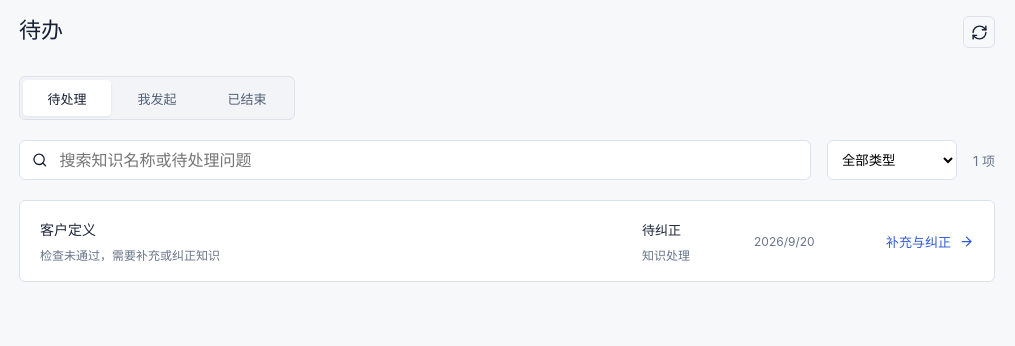
Scenario: knowledge actions in the inbox › finds knowledge even when the collaboration queue is empty and removes it after release
The width and height of the screenshot is (1015, 346).
Step 1. Click the button with aria-label "补充与纠正：客户定义" → (68, 230), box [19,200,995,282]
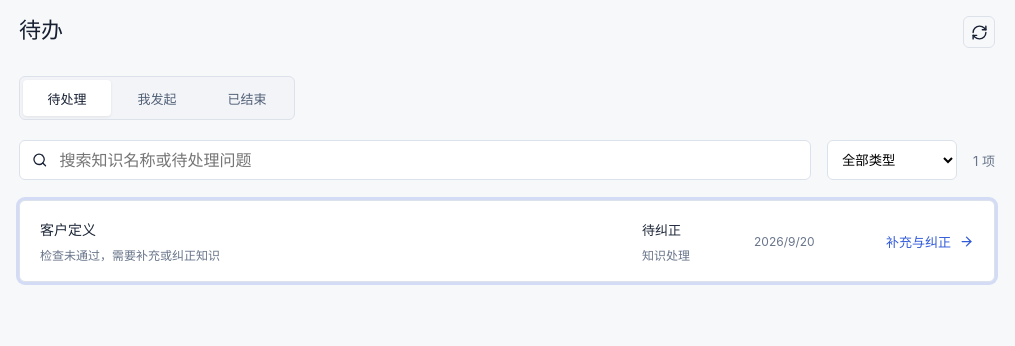
Step 2. Click the button named "刷新待办" → (979, 32), box [963,16,995,48]
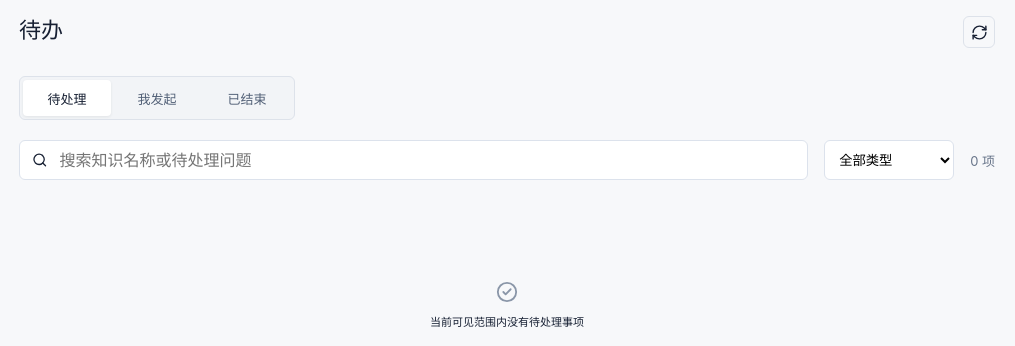
expect the text "当前可见范围内没有待处理事项" is shown: met, box [430,313,584,329]
expect the button "补充与纠正：客户定义" is gone: met
